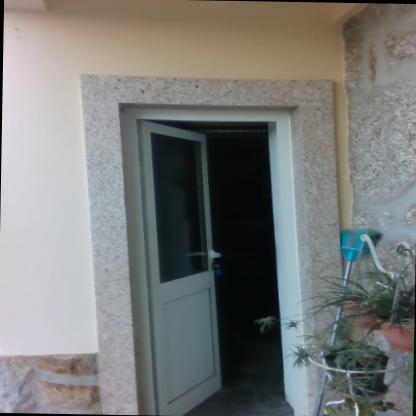semi: (106, 90, 308, 416)
